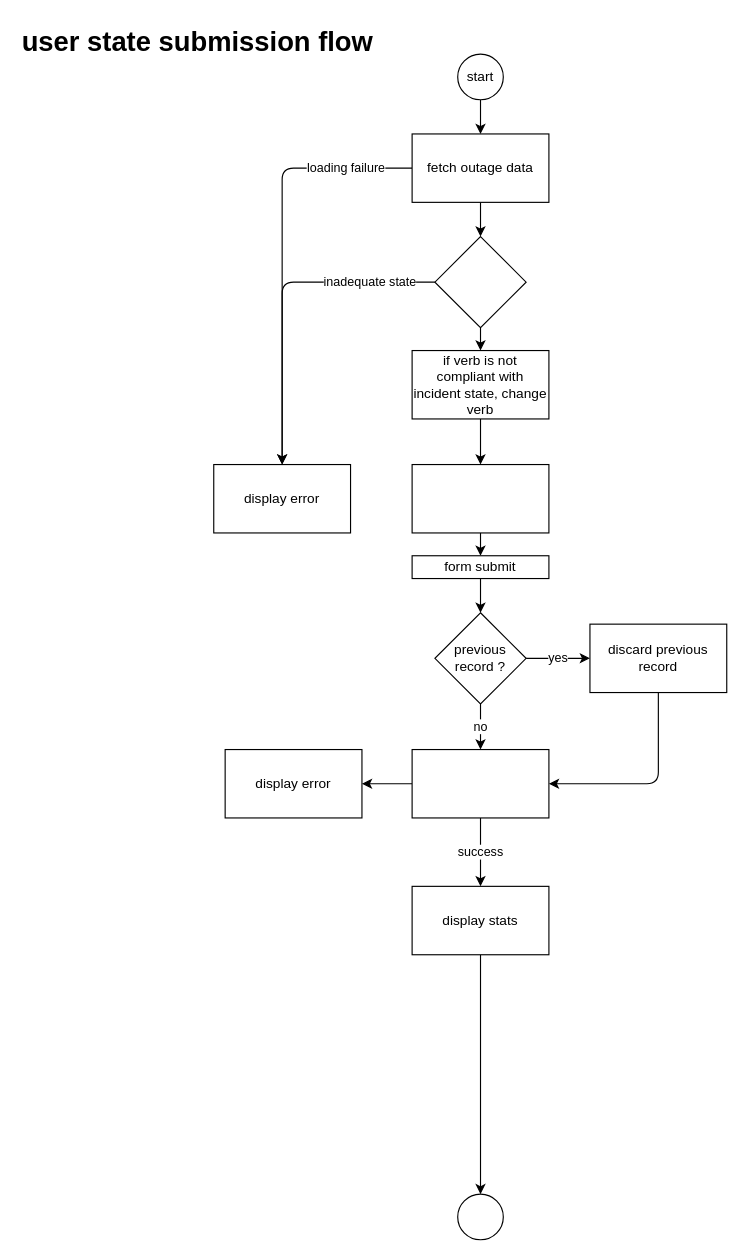
Some shapes in this 747 by 1260 pixel diagram are drawn without their labels. Here are the shapes that lost their labels. From the top down, the box of each, then its label:
(434, 235, 526, 328): outage eligible ?
(411, 463, 549, 533): display choices
(411, 748, 549, 818): post user state
(457, 1193, 503, 1240): end
